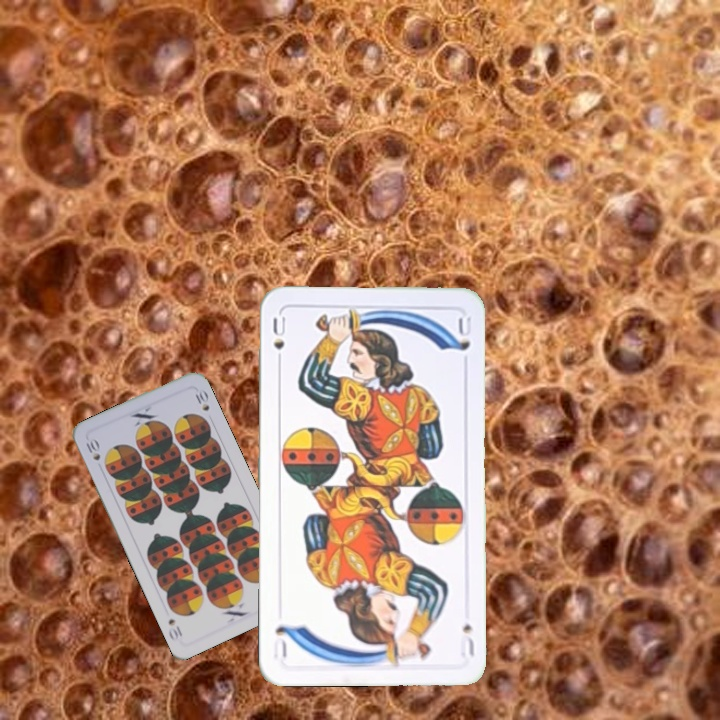S10: (82, 436, 103, 463)
SU: (269, 312, 288, 370), (458, 619, 477, 659)
